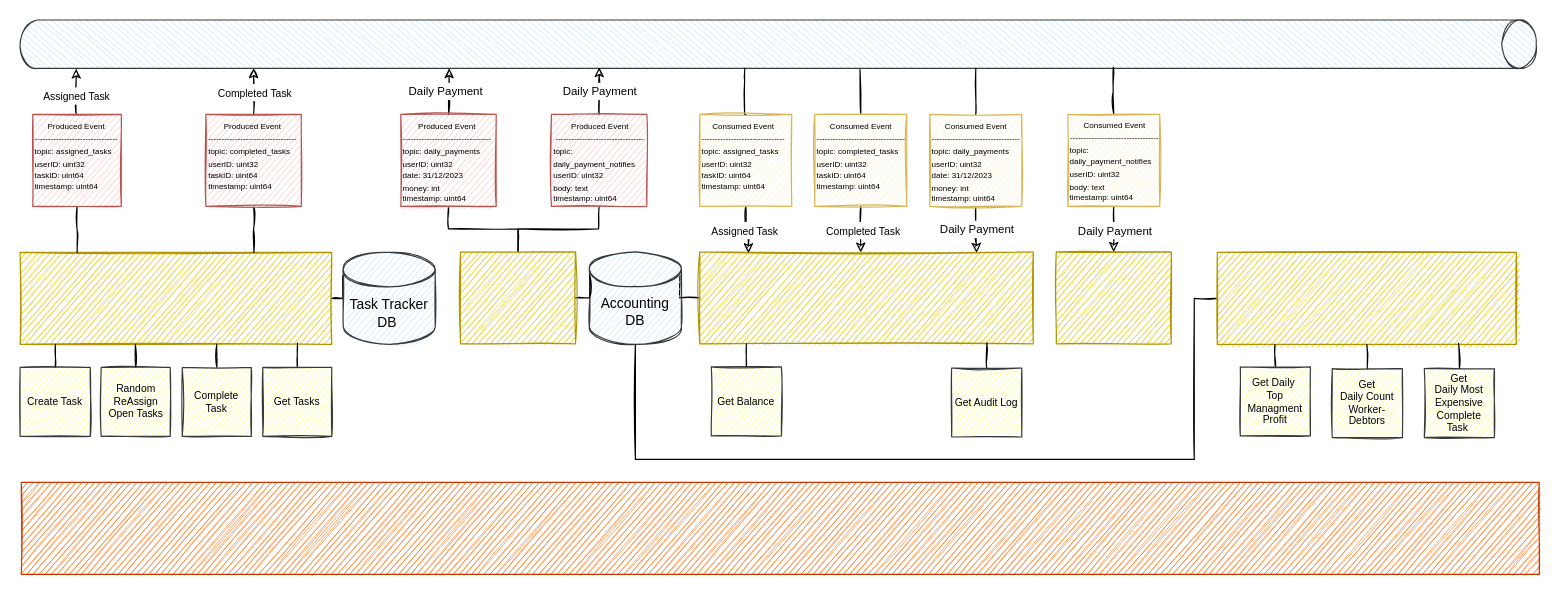
Image size: 1559x596. Some labels were removed from this diagram. Each missing label, with the centre of its shape:
"Accounting Service" belongs at (x=866, y=297).
"Analitics Service" belongs at (x=1366, y=297).
"Auth Service" belongs at (x=779, y=527).
"Daily Payer cronjob (00:00:00 next day)" belongs at (x=517, y=297).
"Email Notifier" belongs at (x=1113, y=297).
"Kafka" belongs at (x=777, y=43).
"Task Tracker Service" belongs at (x=175, y=297).
